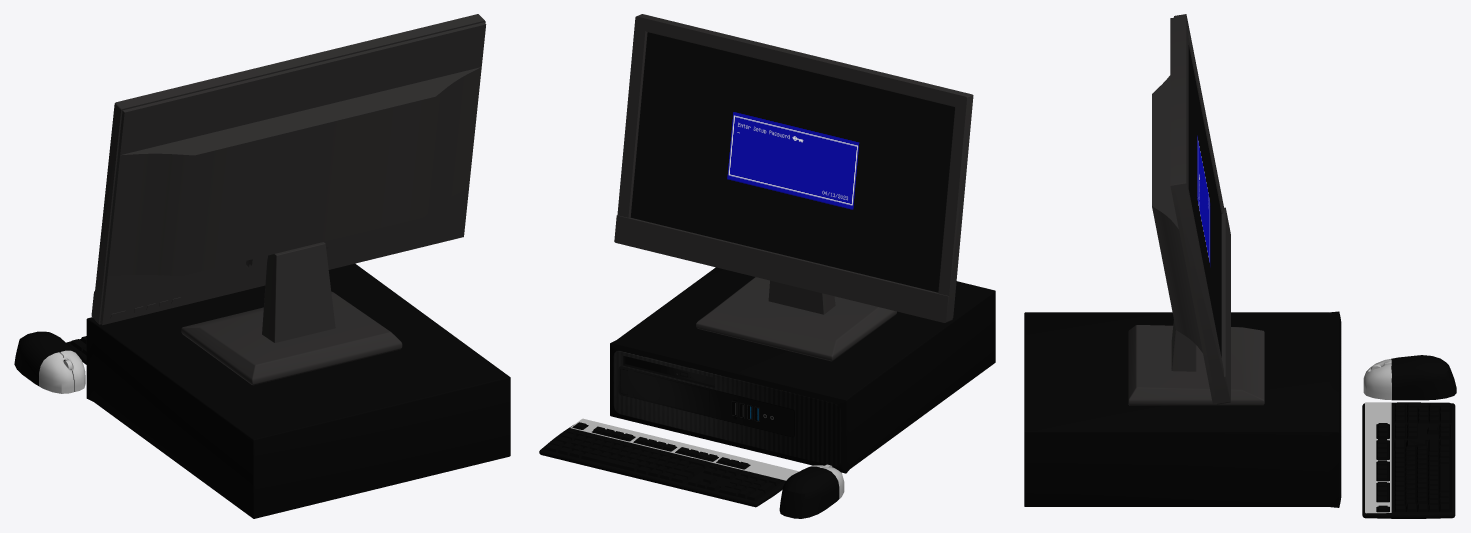
Rendered from desktop_computer.glb.
The picture shows the model from 3 angles, left to right: view 1: azimuth 30°, elevation 25°; view 2: azimuth 150°, elevation 25°; view 3: azimuth 270°, elevation 25°; orthographic projection. The views are drawn at different scales.
Visible parts, largest first — view 1: Cube.004_6, Cube_0, Cube.001_3, Cube.002_4; view 2: Cube.004_6, Cube_0, Cube.001_3, Cube.003_5, Cube.002_4; view 3: Cube_0, Cube.004_6, Cube.001_3, Cube.002_4, Cube.003_5.
Boxes of the visible parts, x1,y1,x2,y2 form: Cube.004_6: (91,14,486,325); Cube_0: (86,263,510,518); Cube.001_3: (181,242,402,385); Cube.002_4: (14,331,86,393); Cube.004_6: (614,14,973,322); Cube_0: (610,267,995,473); Cube.001_3: (696,277,896,361); Cube.003_5: (544,422,780,500); Cube.002_4: (539,418,844,518); Cube_0: (1024,311,1341,507); Cube.004_6: (1152,14,1230,404); Cube.001_3: (1128,320,1264,405); Cube.002_4: (1362,355,1456,518); Cube.003_5: (1377,402,1450,512).
Size of the model in its own units: 1.24 by 1.21 by 1.34.
Materials: 6 (2 with a texture image).
